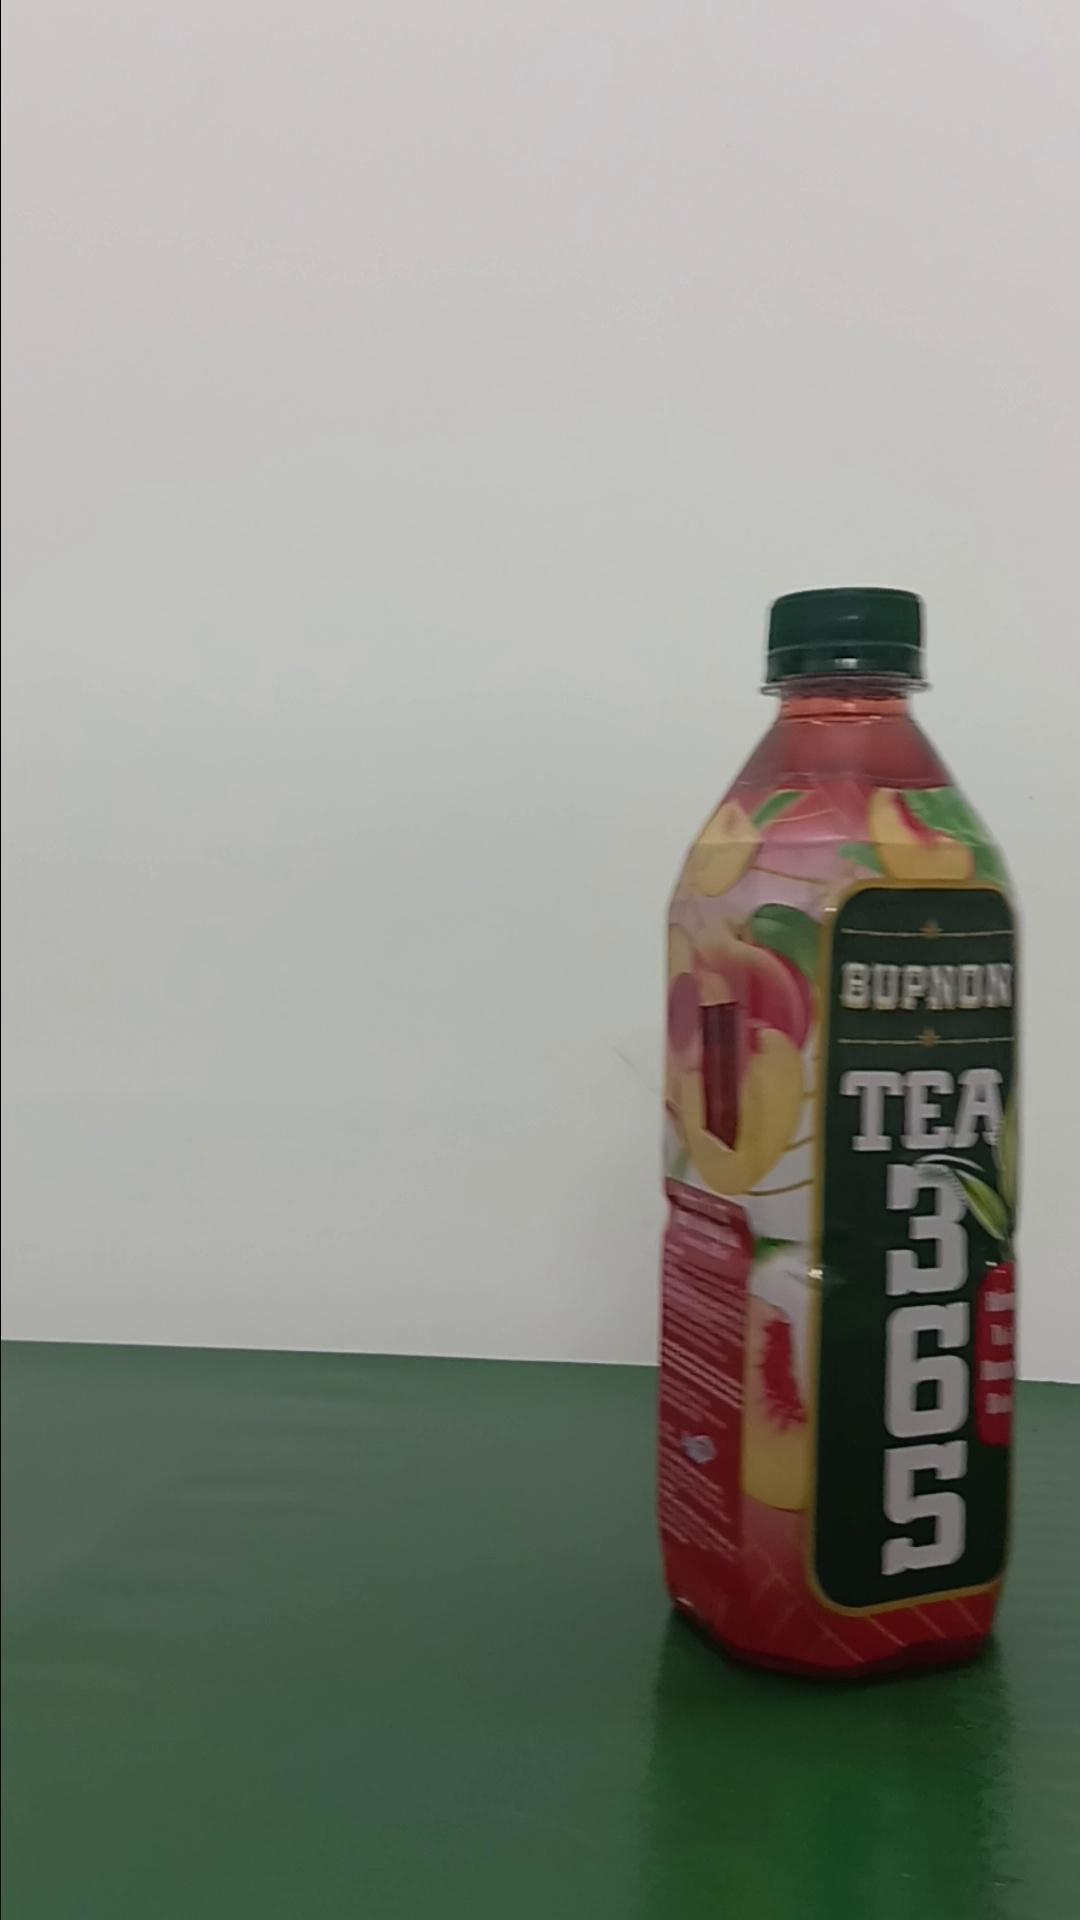loi rach va lap chai: (649, 583, 1030, 1671)
